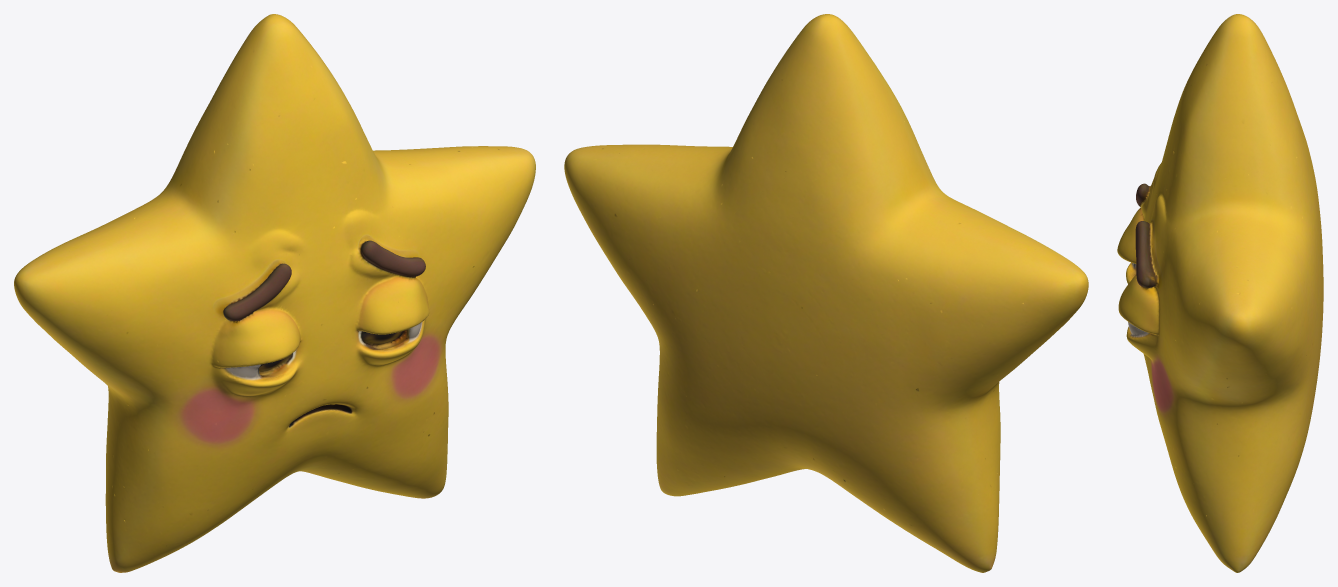
The model's file is star character_1.glb.
3 renders of one model, left to right at view 1: azimuth 30°, elevation 25°; view 2: azimuth 150°, elevation 25°; view 3: azimuth 270°, elevation 25°, orthographic. The views are drawn at different scales.
Bounding box in the file's own units: 2 × 1.91 × 0.7372.
1 material, 1 textured.
